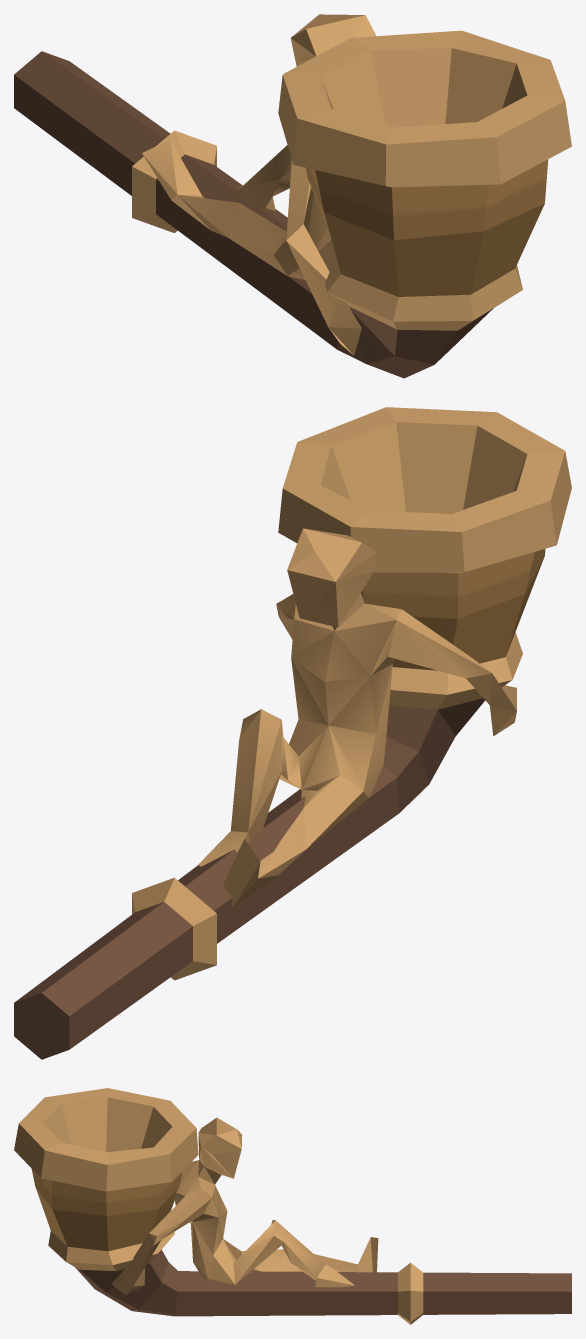
The model's file is SM_Prop_Smoking_Pipe_02.fbx.
3 renders of one model, top to bottom at view 1: azimuth 30°, elevation 25°; view 2: azimuth 150°, elevation 25°; view 3: azimuth 270°, elevation 25°, orthographic. The views are drawn at different scales.
Visible parts, largest first — view 1: SM_Prop_Smoking_Pipe_02; view 2: SM_Prop_Smoking_Pipe_02; view 3: SM_Prop_Smoking_Pipe_02.
Boxes of the visible parts, box(x1,y1,x2,y2) form: SM_Prop_Smoking_Pipe_02: box(14, 14, 571, 378); SM_Prop_Smoking_Pipe_02: box(14, 407, 571, 1059); SM_Prop_Smoking_Pipe_02: box(14, 1088, 571, 1324).
Size of the model in its own units: 8.15 by 9.84 by 24.61.
